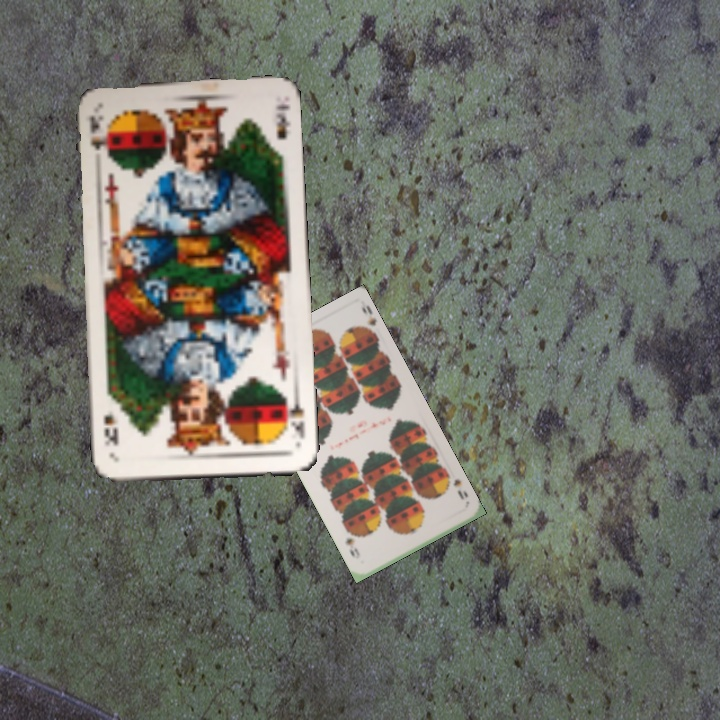S9: (443, 470, 467, 502)
SK: (281, 389, 308, 448), (84, 111, 109, 162)
